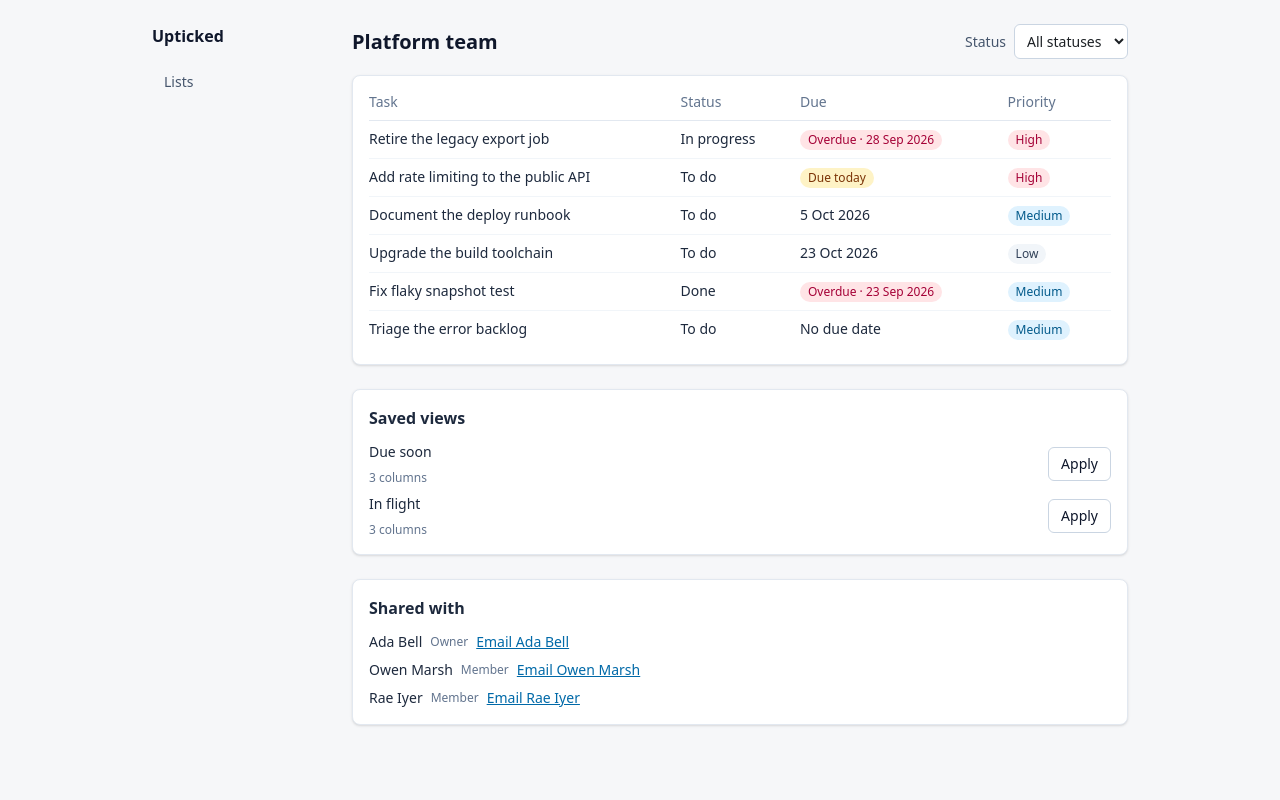
Test: task list › applies the columns and filters of a saved view
Expected: the table is shown, x1=369 y1=92 x2=1111 y2=348
Click the button "Apply" in the row of "Due soon". click: coordinates (1080, 464)
box: x1=1048 y1=447 x2=1111 y2=481
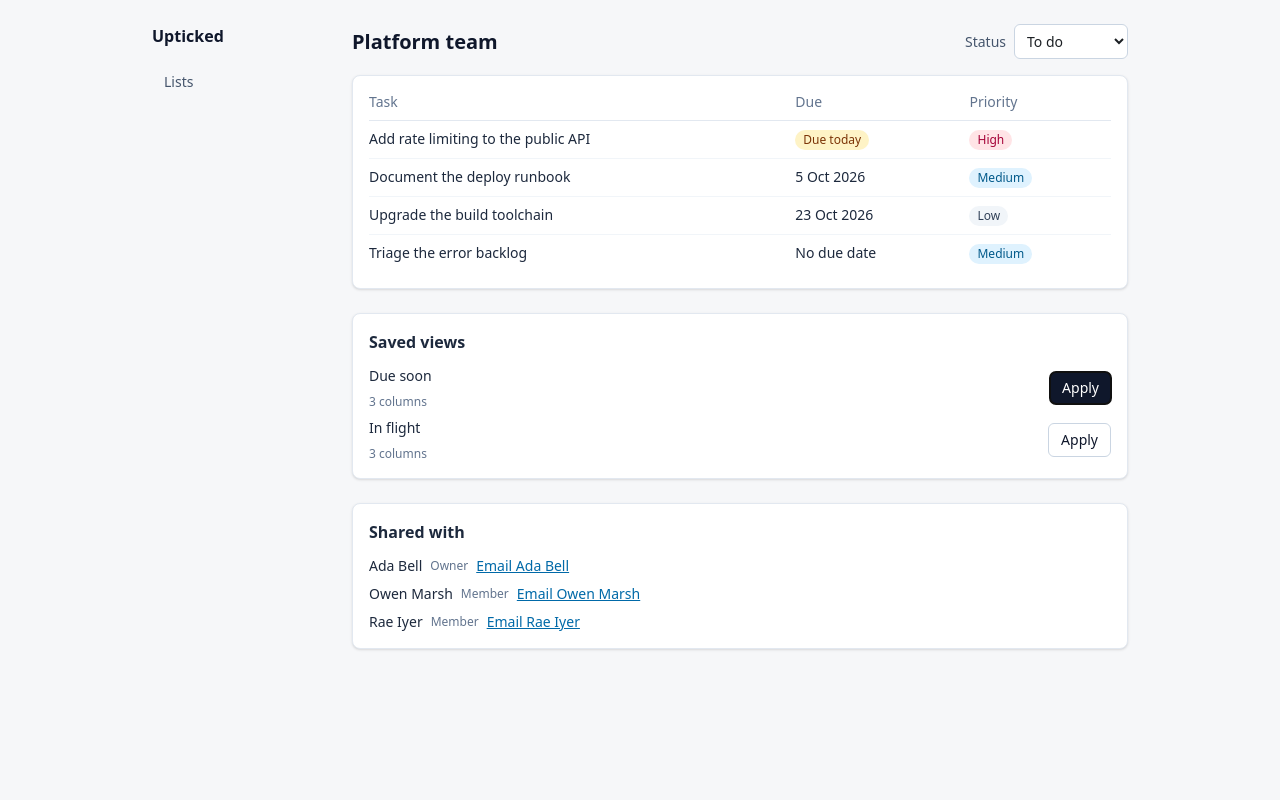
Now the column headings read "Task", "Due", "Priority", in this order, box x1=369 y1=92 x2=795 y2=120; x1=795 y1=92 x2=970 y2=120; x1=970 y1=92 x2=1111 y2=120
